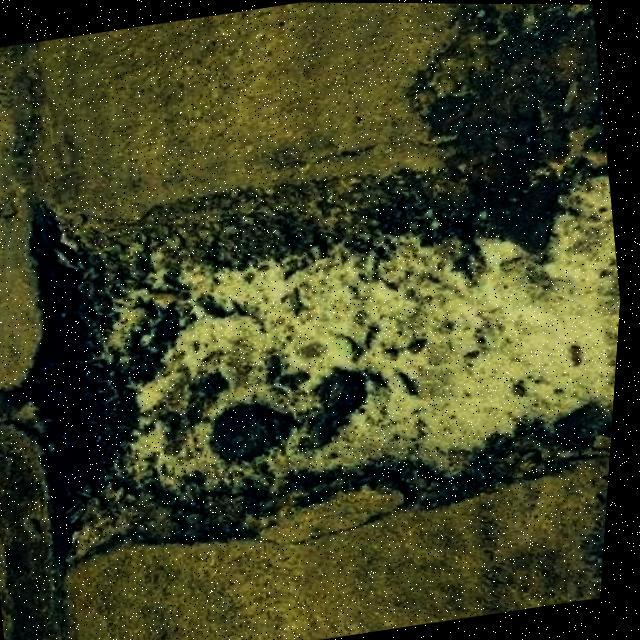pothole: (0, 110, 634, 583)
